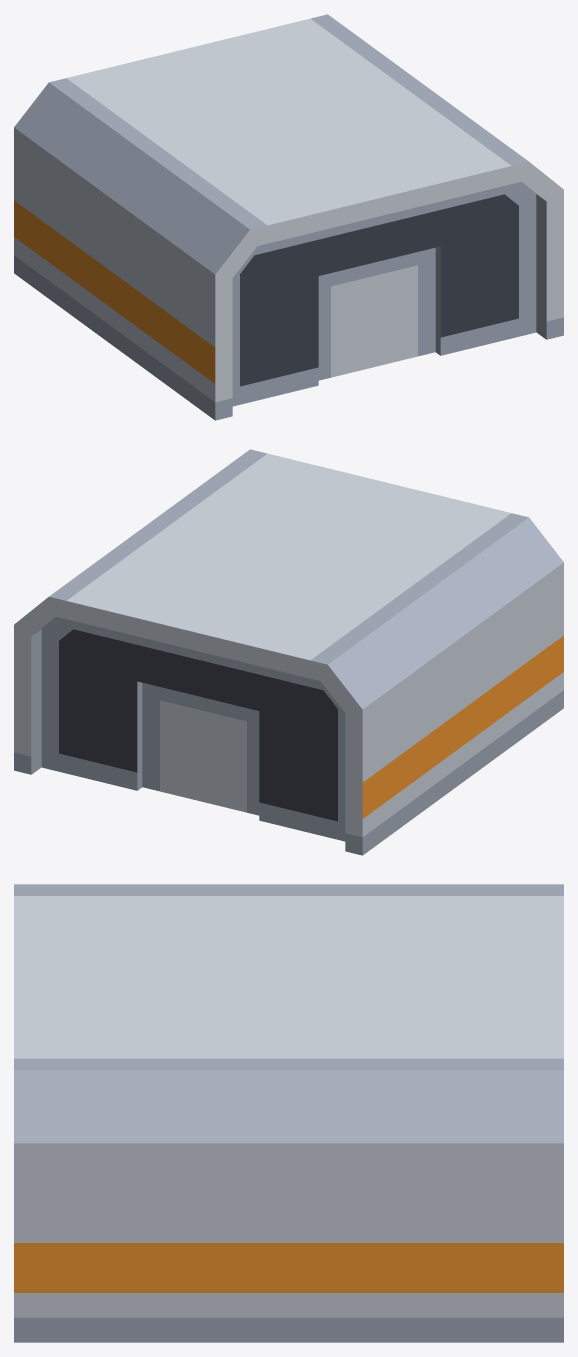
The model's file is hangar_smallA.dae.
3 views of the same model, one above another, from view 1: azimuth 30°, elevation 25°; view 2: azimuth 150°, elevation 25°; view 3: azimuth 270°, elevation 25° (orthographic). The views are drawn at different scales.
Visible parts, largest first — view 1: hangar_smallA, gate; view 2: hangar_smallA, gate; view 3: hangar_smallA.
Part boxes in pixels (x1,y1,x2,y2): hangar_smallA: (14, 14, 563, 420); gate: (232, 182, 536, 406); hangar_smallA: (14, 449, 563, 855); gate: (41, 617, 345, 841); hangar_smallA: (14, 884, 563, 1342).
Size of the model in its own units: 2 by 1 by 2.
